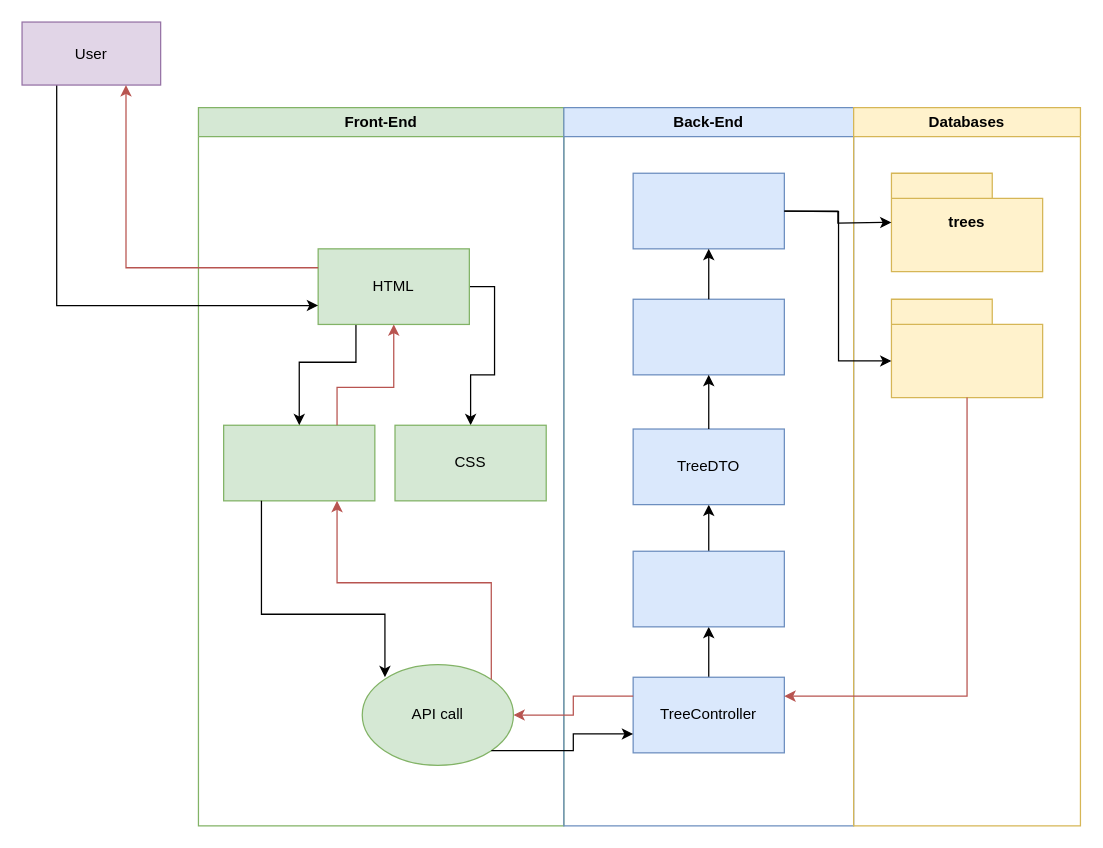
This 1103x848 diagram has some shape labels left out. The centre of each missing label's shape, as x and y in pixels:
Domain: pixel 708 210
JavaScript: pixel 298 462
Repository: pixel 708 336
TreeService: pixel 708 588
users: pixel 966 348
